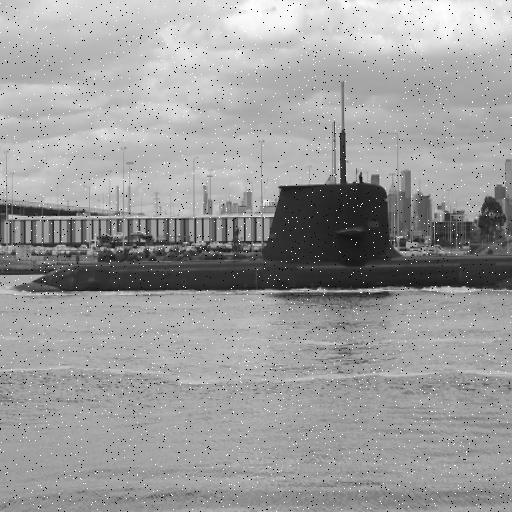submarine: (1, 81, 512, 287)
